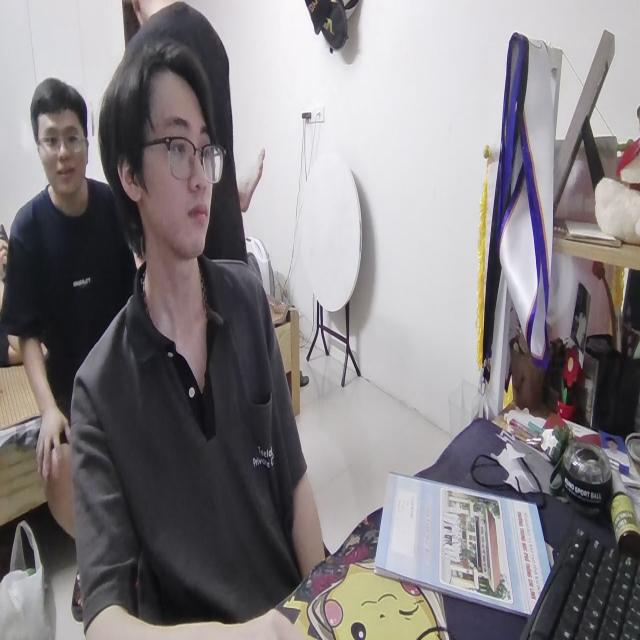book: (372, 465, 553, 625)
extra_person: (5, 70, 136, 522), (138, 0, 242, 257)
student: (68, 42, 330, 640)
